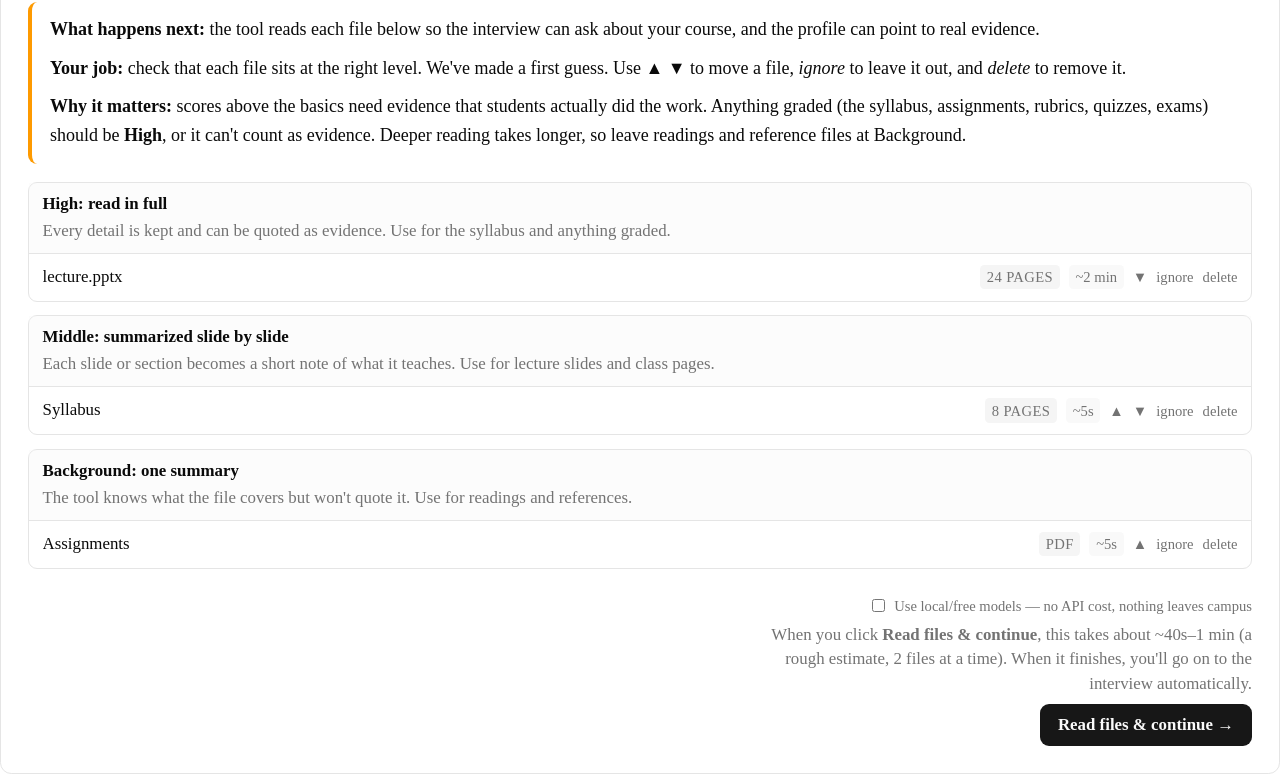
Test case: TriageStep › shows an error message and re-enables button when ingest fails
The image size is (1280, 774).
(page scrolled)
Click the button "Read files & continue →": (1146, 725) [1040,704,1252,746]
(page scrolled)
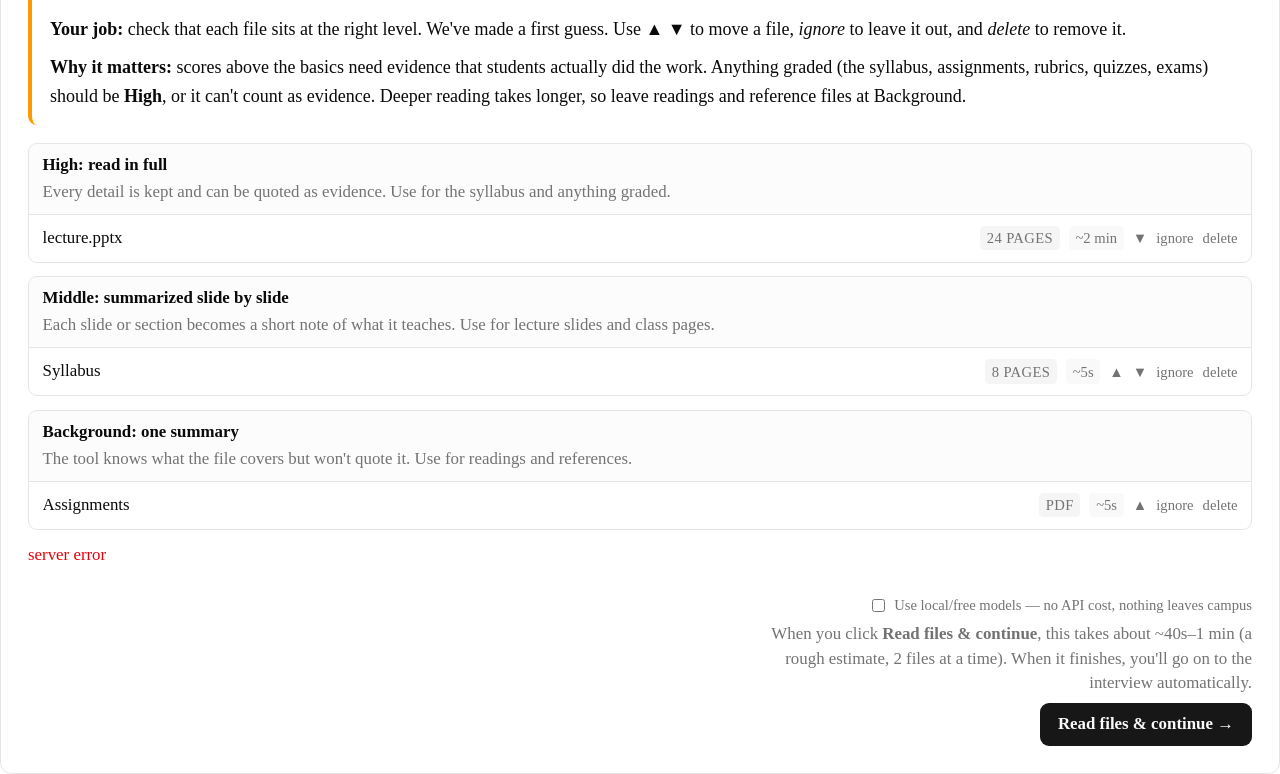
Expected: the text "server error" is shown, [28,545,106,564]
